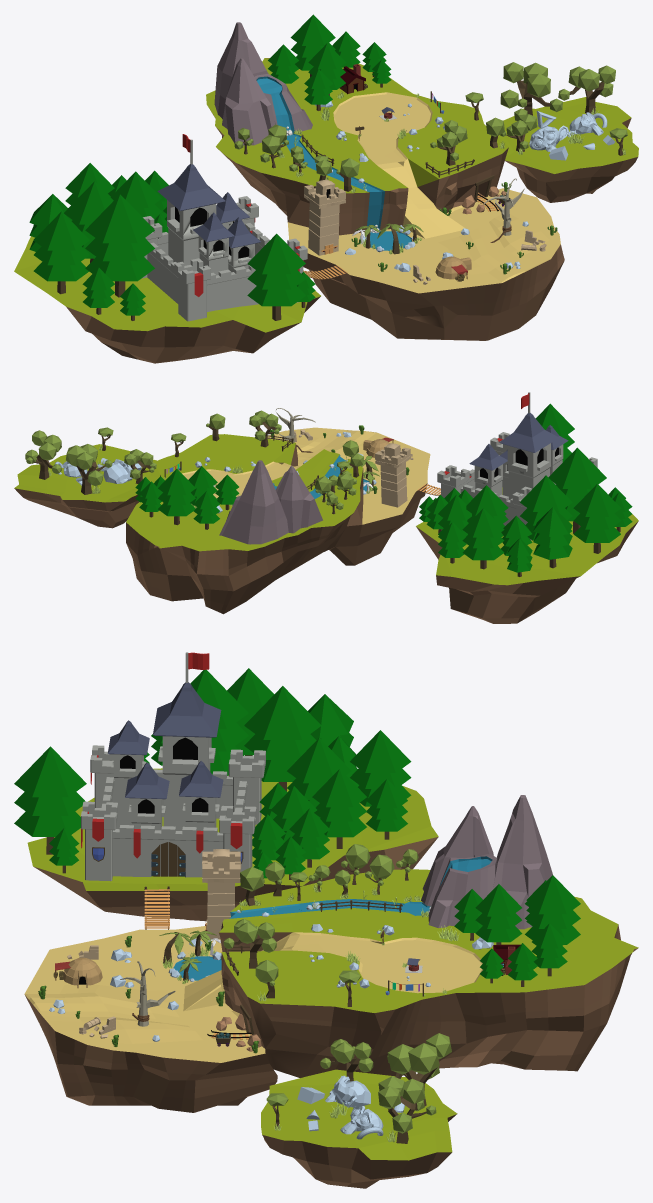
The model's file is ilha teste.fbx.
3 renders of one model, top to bottom at view 1: azimuth 30°, elevation 25°; view 2: azimuth 150°, elevation 25°; view 3: azimuth 270°, elevation 25°, orthographic. The views are drawn at different scales.
Parts seen in each view (by area): view 1: Ilha, Ilha_03, Ilha_02, Torres_Castelo, Montanha, Muro_castelo, Árvore_05_015, Árvore_05_020, Árvore_05_019, Torre, Árvore_03_005, Árvore_03_004 (+18 smaller); view 2: Ilha, Ilha_03, Montanha, Ilha_02, Torres_Castelo, Árvore_05_019, Árvore_05_015, Muro_castelo, Torre, Árvore_05_010, Árvore_05_013, Árvore_05_012 (+20 smaller); view 3: Ilha, Ilha_02, Muro_castelo, Torres_Castelo, Ilha_03, Montanha, Árvore_05_020, Árvore_05_012, Árvore_05_006, Árvore_05_010, Torre, Árvore_05_015 (+23 smaller).
Boxes of the visible parts, x1,y1,x2,y2 form: Ilha: (206, 58, 564, 340); Ilha_03: (14, 236, 320, 363); Ilha_02: (498, 97, 638, 202); Torres_Castelo: (157, 134, 260, 275); Montanha: (214, 22, 312, 145); Muro_castelo: (142, 196, 307, 321); Árvore_05_015: (85, 194, 154, 297); Árvore_05_020: (247, 233, 305, 320); Árvore_05_019: (33, 211, 89, 294); Torre: (304, 179, 345, 255); Árvore_03_005: (500, 62, 562, 115); Árvore_03_004: (558, 65, 615, 113); Ilha: (126, 427, 430, 614); Ilha_03: (416, 487, 638, 623); Montanha: (219, 460, 322, 544); Ilha_02: (14, 444, 159, 528); Torres_Castelo: (469, 392, 568, 499); Árvore_05_019: (573, 483, 620, 553); Árvore_05_015: (548, 447, 606, 533); Muro_castelo: (437, 432, 597, 540); Torre: (375, 443, 410, 507); Árvore_05_010: (462, 508, 504, 569); Árvore_05_013: (533, 507, 572, 568); Árvore_05_012: (520, 475, 572, 540); Ilha: (24, 869, 638, 1112); Ilha_02: (261, 1069, 457, 1188); Muro_castelo: (81, 745, 265, 881); Torres_Castelo: (107, 652, 223, 830); Ilha_03: (27, 768, 438, 921); Montanha: (421, 795, 552, 929); Árvore_05_020: (14, 746, 86, 854); Árvore_05_012: (244, 686, 321, 791); Árvore_05_006: (312, 769, 366, 848); Árvore_05_010: (350, 730, 411, 806); Torre: (202, 849, 241, 939); Árvore_05_015: (190, 669, 248, 775).
Size of what is drawn, in the model's own units: 18602 by 6408 by 12630.
